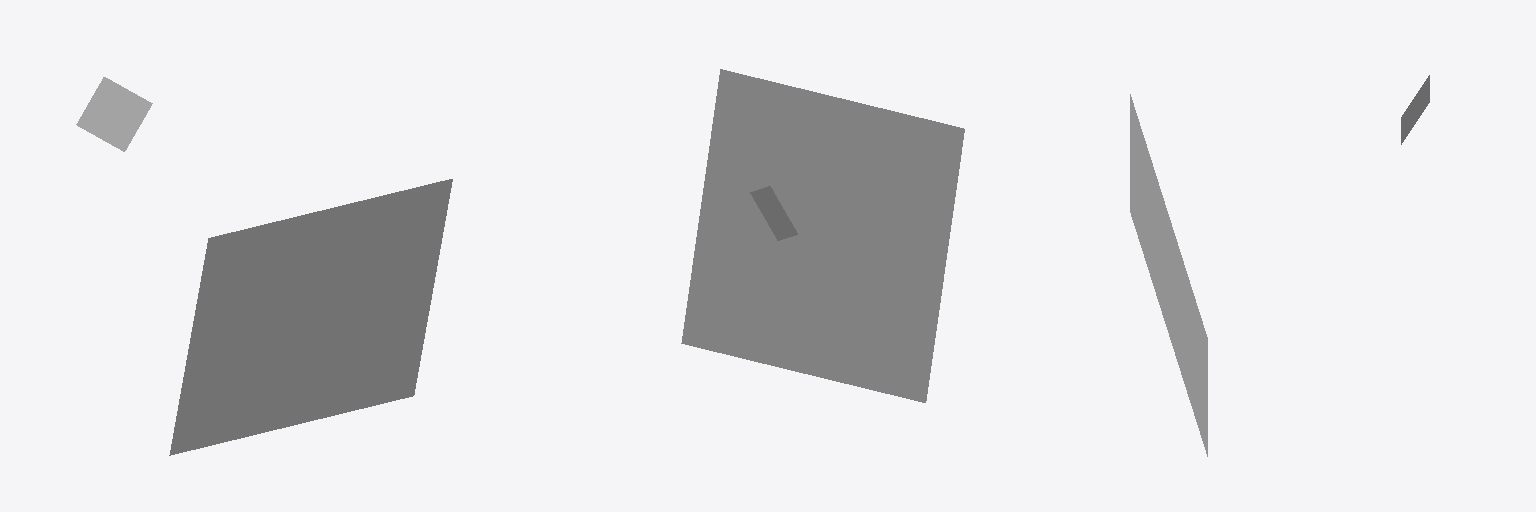
File: shirt 2019-11-29-1.obj
3 renders of one model, left to right at view 1: azimuth 30°, elevation 25°; view 2: azimuth 150°, elevation 25°; view 3: azimuth 270°, elevation 25°, orthographic.
Parts seen in each view (by area): view 1: Plane002, Plane003; view 2: Plane002, Plane003; view 3: Plane002, Plane003.
Boxes of the visible parts, box(x1,y1,x2,y2) form: Plane002: box(169, 179, 452, 455); Plane003: box(76, 77, 152, 151); Plane002: box(681, 69, 964, 402); Plane003: box(750, 186, 797, 240); Plane002: box(1130, 94, 1207, 456); Plane003: box(1401, 75, 1429, 144).
Size of the model in its own units: 15 by 16.84 by 15.87.